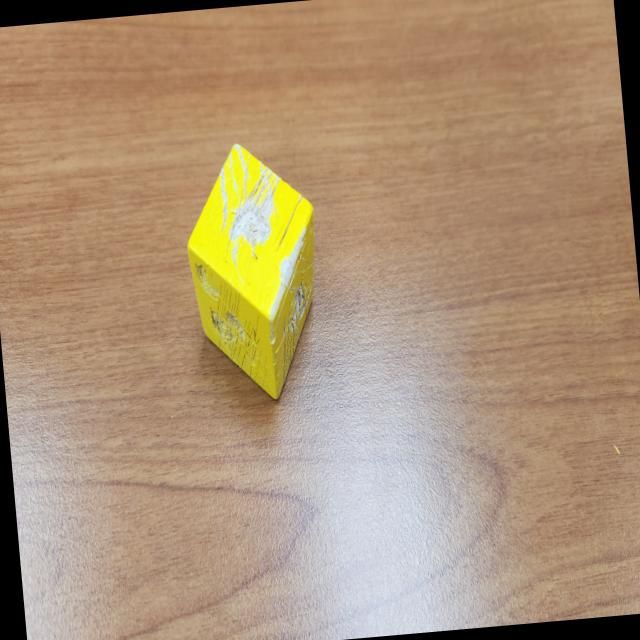broken: (178, 136, 329, 406)
